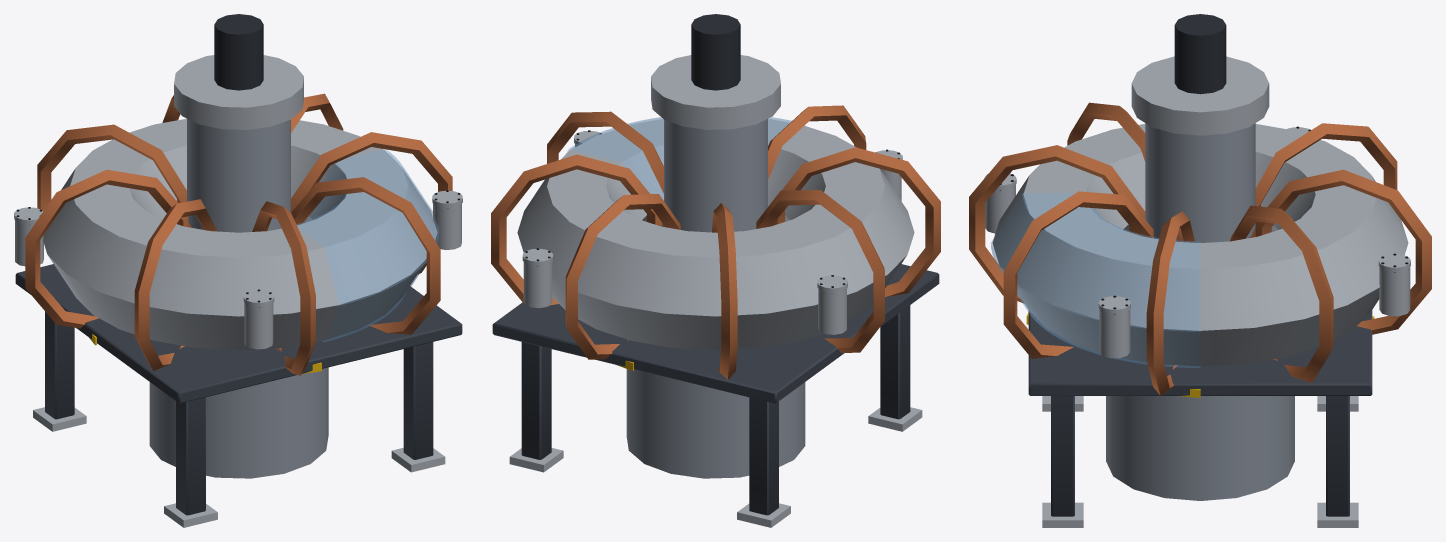
File: reactor_plasma_tokamak_torus.glb
The picture shows the model from 3 angles, left to right: view 1: azimuth 30°, elevation 25°; view 2: azimuth 150°, elevation 25°; view 3: azimuth 270°, elevation 25°; orthographic projection. The views are drawn at different scales.
Visible parts, largest first — view 1: reactor_plasma_tokamak_torus; view 2: reactor_plasma_tokamak_torus; view 3: reactor_plasma_tokamak_torus.
Boxes of the visible parts, x1,y1,x2,y2 form: reactor_plasma_tokamak_torus: [14, 14, 462, 527]; reactor_plasma_tokamak_torus: [491, 14, 940, 527]; reactor_plasma_tokamak_torus: [969, 14, 1431, 527].
Bounding box in the file's own units: 2.69 × 2.8 × 2.69.
